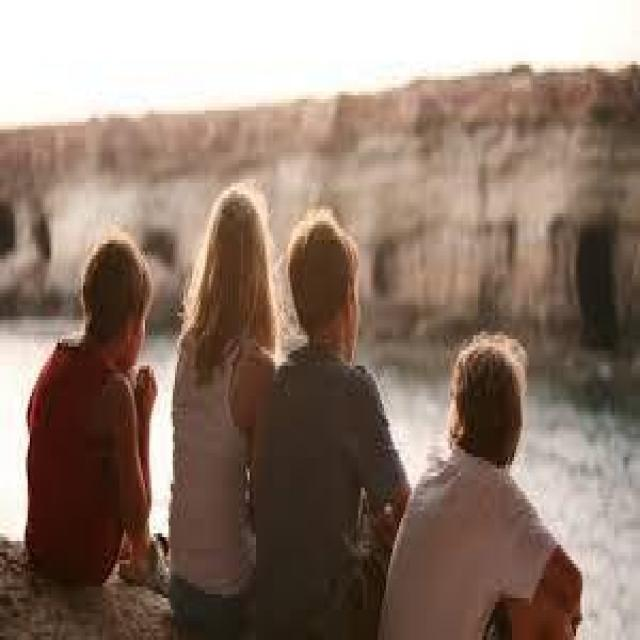person: (254, 168, 412, 594), (395, 278, 582, 636), (19, 206, 173, 594), (160, 152, 277, 602)
